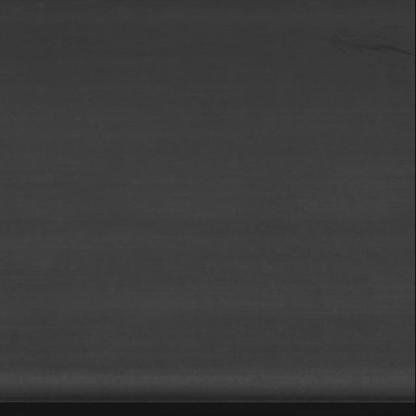water_spot: (322, 28, 416, 74)
